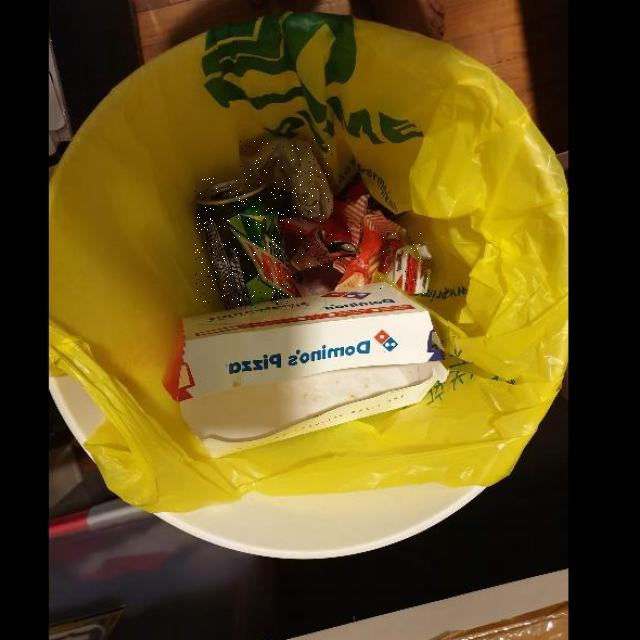metal: (195, 178, 294, 308)
paper: (173, 281, 448, 457), (240, 138, 332, 222)
wrapper: (378, 233, 432, 294), (291, 228, 361, 273)
